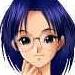NoHuman: (2, 1, 75, 75)
